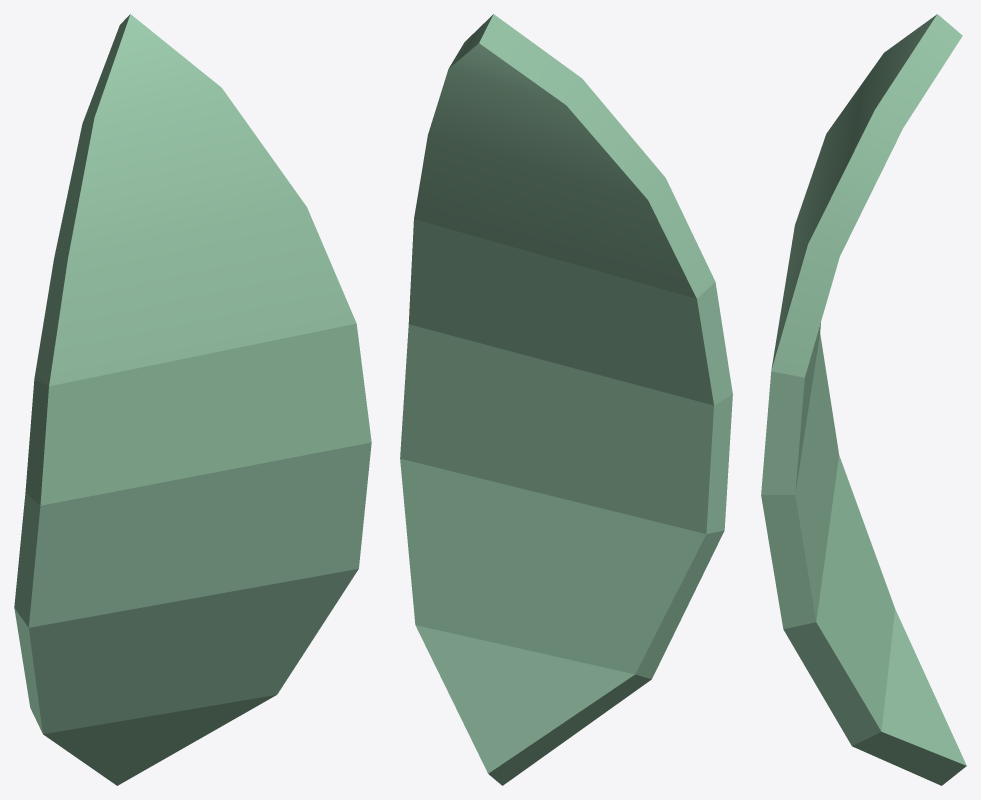
The model's file is particle02N.fbx.
The picture shows the model from 3 angles, left to right: view 1: azimuth 30°, elevation 25°; view 2: azimuth 150°, elevation 25°; view 3: azimuth 270°, elevation 25°; orthographic projection.
Visible parts, largest first — view 1: particle02N; view 2: particle02N; view 3: particle02N.
Part boxes in pixels (x1,y1,x2,y2): particle02N: (14,14,371,785); particle02N: (400,14,732,785); particle02N: (761,14,966,785).
Size of the model in its own units: 0.3045 by 0.6952 by 0.1668.
